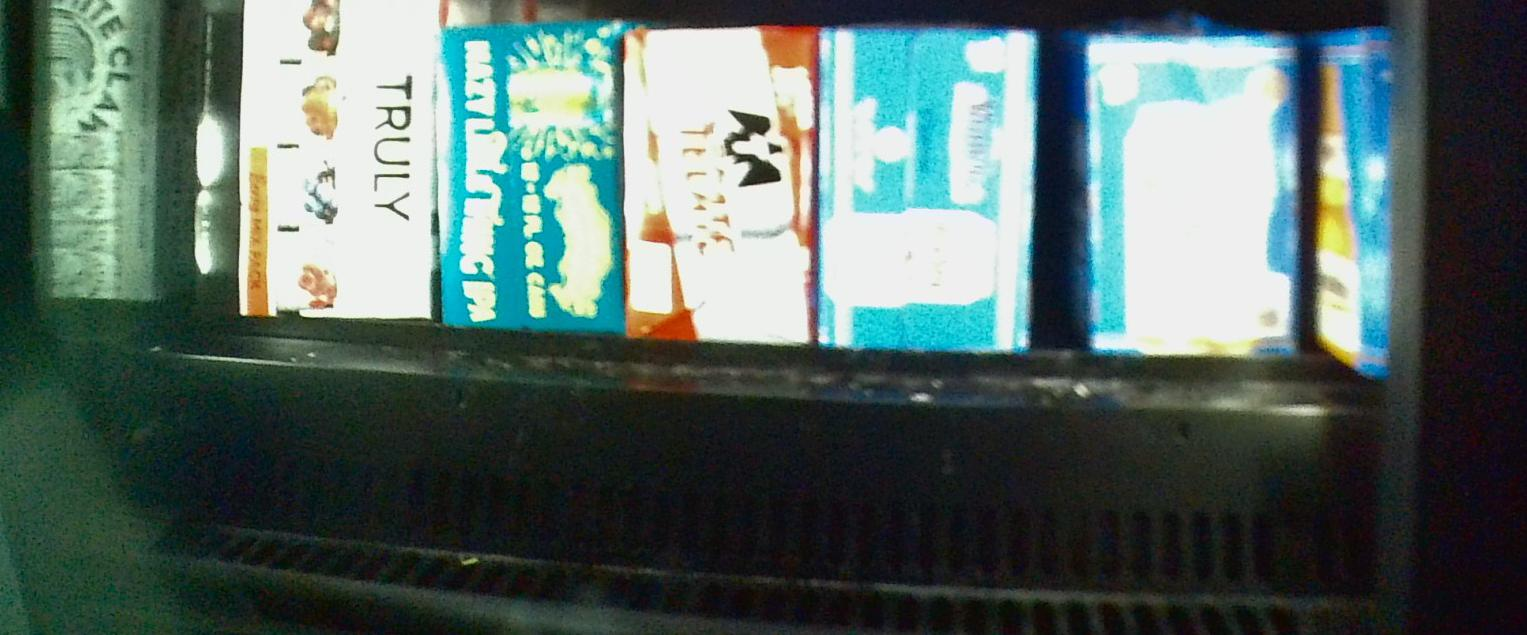bottle: (1077, 35, 1297, 361), (820, 22, 1036, 350), (238, 2, 433, 319), (623, 28, 816, 346), (440, 22, 625, 333), (1301, 31, 1384, 378)
